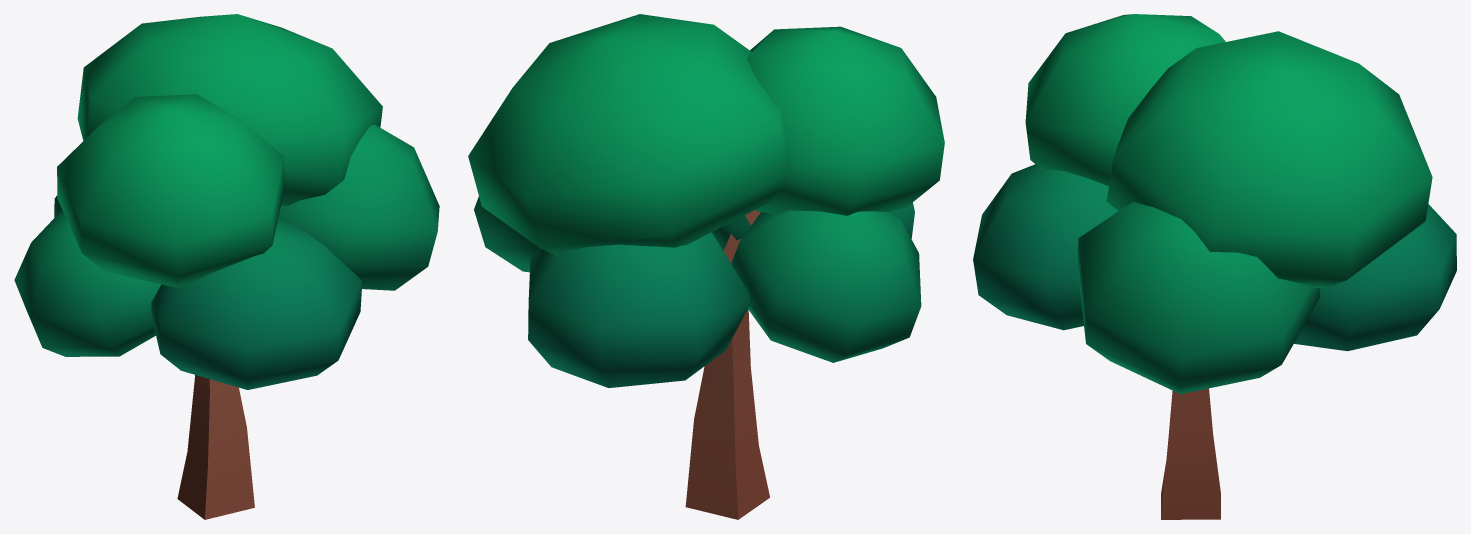
File: tree_D.glb
3 views of the same model, side by side, from view 1: azimuth 30°, elevation 25°; view 2: azimuth 150°, elevation 25°; view 3: azimuth 270°, elevation 25° (orthographic). The views are drawn at different scales.
Visible parts, largest first — view 1: tree_D; view 2: tree_D; view 3: tree_D.
Part boxes in pixels (x1,y1,x2,y2): tree_D: (14,14,439,519); tree_D: (468,14,944,519); tree_D: (973,14,1456,519).
Bounding box in the file's own units: 1.02 × 1.07 × 1.
1 material, 1 textured.
